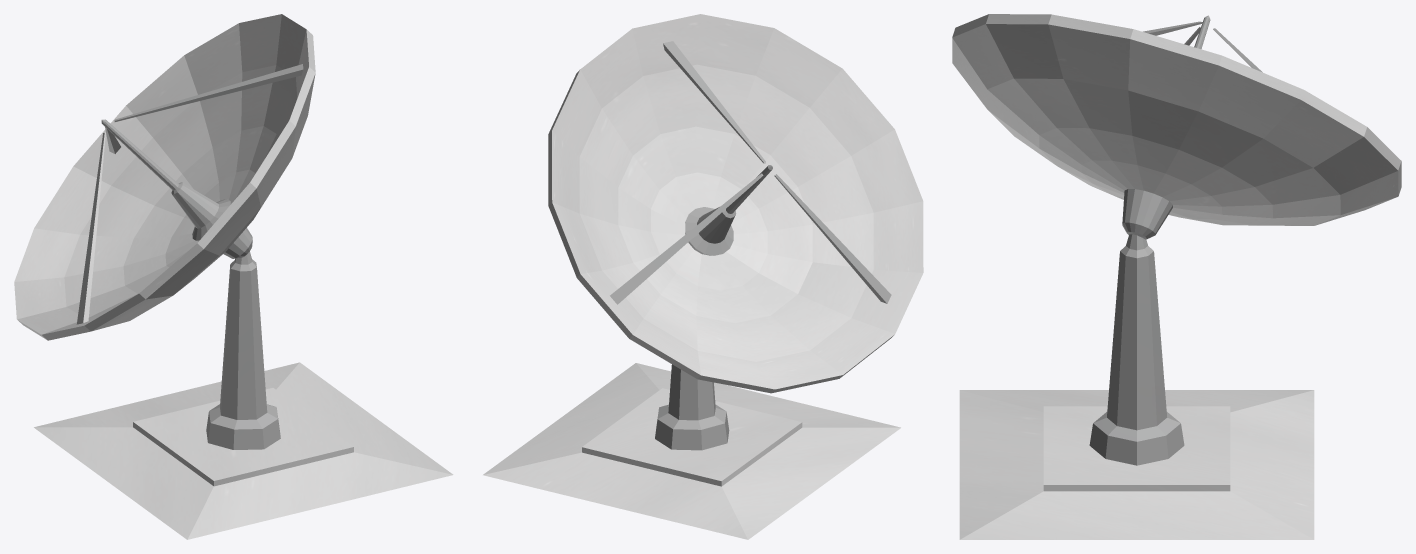
Rendered from DishAntenna.fbx.
The picture shows the model from 3 angles, left to right: view 1: azimuth 30°, elevation 25°; view 2: azimuth 150°, elevation 25°; view 3: azimuth 270°, elevation 25°; orthographic projection. The views are drawn at different scales.
Parts seen in each view (by area): view 1: Cylinder.003; view 2: Cylinder.003; view 3: Cylinder.003.
Part boxes in pixels (x1,y1,x2,y2): Cylinder.003: [14, 14, 453, 539]; Cylinder.003: [483, 14, 923, 539]; Cylinder.003: [952, 14, 1401, 539].
Bounding box in the file's own units: 182 × 210 × 181.
